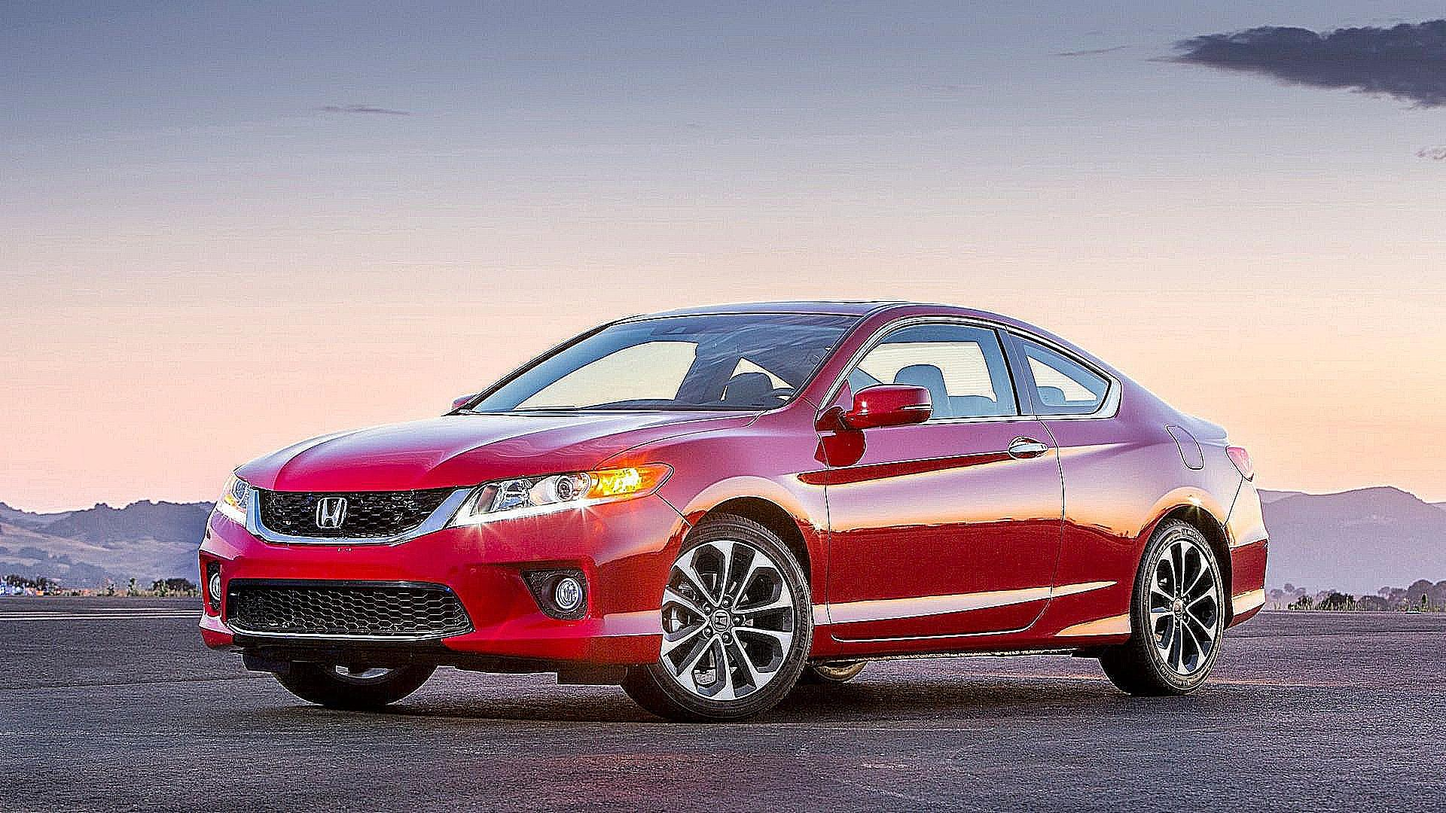Car hood: (226, 411, 761, 496)
Fender - -F-L-: (652, 397, 838, 666)
Fender - -R-L-: (1118, 393, 1251, 639)
Front bumper: (178, 509, 687, 687)
Headlight - -L-: (441, 453, 680, 538)
Headlight - -R-: (205, 459, 266, 539)
Passenger-s door - -F-L-: (832, 301, 1076, 641)
Rear bumper: (1222, 468, 1281, 632)
Rear light - -L-: (1217, 428, 1273, 489)
Side bumper - -L-: (800, 595, 1133, 669)
Side mirror - -L-: (824, 366, 937, 441)
Side mirror - -R-: (441, 386, 485, 426)
